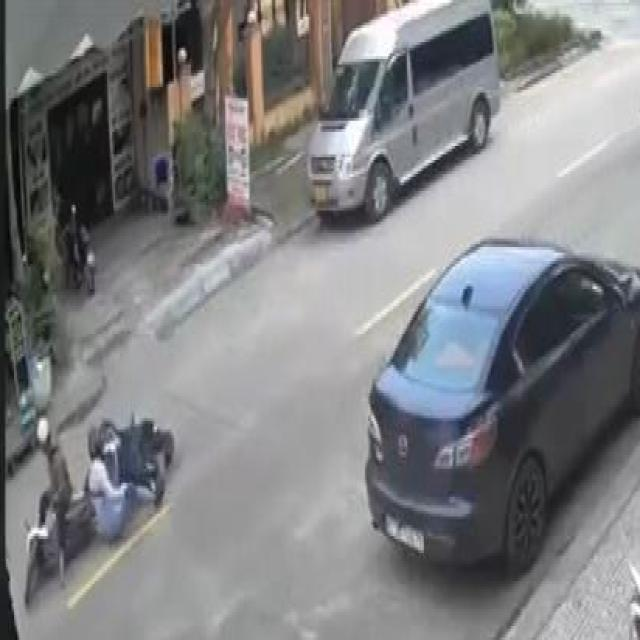accident: (21, 359, 178, 623)
